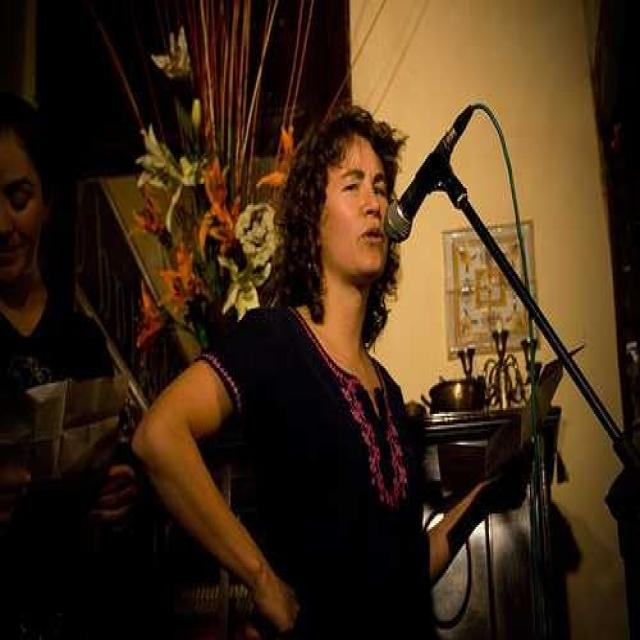microphone: (385, 105, 463, 249)
